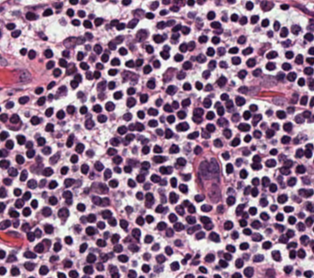nucleus: (17, 71, 30, 82), (136, 29, 147, 40), (163, 69, 173, 81), (64, 37, 76, 46), (127, 18, 137, 28), (261, 1, 272, 10), (66, 63, 75, 74), (176, 122, 188, 130), (217, 76, 226, 86), (238, 123, 249, 131), (97, 81, 106, 90), (166, 85, 175, 94), (126, 97, 135, 106), (169, 144, 178, 153), (253, 114, 261, 124), (217, 118, 227, 126), (25, 12, 36, 19), (153, 35, 164, 42), (187, 131, 198, 138), (66, 135, 73, 146), (172, 24, 181, 32), (171, 33, 179, 42), (206, 47, 214, 56), (196, 54, 205, 62), (37, 96, 45, 105), (236, 96, 244, 105), (105, 102, 114, 110), (193, 108, 202, 116), (276, 110, 285, 118), (10, 114, 18, 123), (85, 119, 93, 128), (223, 129, 231, 138), (0, 131, 8, 140), (17, 135, 25, 144), (213, 139, 222, 147), (242, 47, 252, 54), (266, 51, 276, 58), (150, 1, 158, 9), (250, 15, 258, 23), (181, 26, 189, 34), (179, 43, 187, 51), (217, 47, 225, 55), (44, 49, 52, 57), (160, 51, 168, 59), (247, 58, 255, 66), (59, 59, 67, 67), (183, 61, 191, 69), (266, 62, 274, 70), (238, 70, 246, 78), (177, 71, 185, 79), (276, 72, 284, 80), (70, 80, 78, 88), (113, 91, 121, 99), (206, 111, 214, 119), (31, 116, 39, 124), (135, 122, 143, 130), (45, 123, 53, 131), (206, 124, 214, 132), (37, 137, 45, 145), (231, 138, 239, 146), (5, 140, 13, 148), (26, 149, 34, 157), (11, 30, 20, 37), (114, 36, 123, 43), (94, 44, 101, 53), (125, 60, 134, 67), (147, 79, 154, 88), (19, 96, 28, 103), (203, 98, 210, 107), (217, 106, 224, 115), (148, 108, 157, 115), (97, 115, 106, 122), (165, 129, 172, 138), (110, 138, 119, 145), (76, 143, 83, 152), (107, 148, 116, 155), (133, 9, 143, 15), (246, 1, 253, 9), (207, 11, 214, 19), (94, 18, 102, 25), (83, 20, 91, 27), (157, 21, 165, 28), (211, 36, 219, 43), (76, 37, 84, 44), (108, 41, 115, 49), (28, 50, 35, 58), (101, 53, 108, 61), (174, 54, 182, 61), (232, 57, 240, 64), (111, 58, 119, 65), (208, 60, 215, 68), (46, 61, 54, 68), (80, 62, 88, 69), (143, 65, 150, 73), (53, 68, 60, 76), (253, 68, 260, 76), (202, 70, 209, 78), (140, 94, 147, 102), (181, 99, 189, 106), (5, 101, 13, 108), (67, 105, 74, 113), (93, 105, 101, 112), (45, 108, 52, 116), (57, 110, 64, 118), (177, 111, 185, 118), (243, 111, 250, 119), (123, 113, 131, 120), (232, 113, 239, 121), (167, 115, 174, 123), (193, 116, 201, 123), (118, 126, 126, 133), (266, 129, 273, 137), (202, 130, 209, 138), (153, 145, 161, 152), (194, 146, 201, 154), (42, 147, 50, 154), (43, 9, 52, 15), (273, 21, 279, 30), (211, 22, 220, 28), (198, 36, 207, 42), (188, 41, 194, 50), (148, 120, 157, 126), (66, 9, 73, 16), (231, 14, 238, 21), (261, 19, 268, 26), (85, 32, 92, 39), (238, 36, 245, 43), (146, 45, 153, 52), (119, 47, 126, 54), (62, 50, 69, 57), (135, 59, 142, 66), (93, 71, 100, 78), (74, 74, 81, 81), (47, 81, 54, 88), (195, 82, 202, 89), (183, 83, 190, 90), (58, 86, 65, 93), (127, 87, 134, 94), (221, 93, 228, 100), (164, 104, 171, 111), (137, 111, 144, 118), (0, 114, 7, 121), (253, 130, 260, 137), (126, 134, 133, 141), (142, 146, 149, 153), (170, 5, 178, 11), (145, 12, 153, 18), (240, 16, 246, 24), (6, 23, 14, 29), (116, 23, 124, 29), (229, 47, 237, 53), (77, 52, 83, 60), (108, 69, 116, 75), (86, 71, 92, 79), (108, 81, 114, 89), (226, 100, 232, 108), (249, 104, 257, 110), (26, 141, 32, 149), (1, 149, 7, 157), (238, 87, 247, 92), (77, 10, 84, 16), (39, 33, 46, 39), (153, 60, 159, 67), (219, 61, 226, 67), (204, 84, 211, 90), (35, 87, 42, 93), (172, 101, 178, 108), (80, 106, 86, 113), (270, 148, 277, 154), (242, 149, 249, 155), (110, 20, 118, 25), (166, 20, 174, 25), (163, 45, 169, 51), (20, 48, 26, 54), (96, 63, 102, 69), (155, 99, 161, 105), (272, 123, 278, 129), (244, 135, 250, 141), (187, 0, 194, 5), (72, 20, 79, 25), (69, 0, 77, 4), (122, 0, 130, 4), (160, 10, 166, 15), (77, 92, 83, 97), (129, 124, 134, 130), (156, 129, 162, 134), (1, 57, 5, 64), (215, 102, 220, 107), (266, 110, 271, 115), (163, 0, 169, 4), (55, 4, 61, 8), (215, 29, 221, 33), (48, 94, 52, 100), (141, 139, 147, 143), (268, 31, 272, 36), (189, 13, 193, 17), (89, 14, 93, 18), (222, 16, 226, 20), (160, 117, 163, 122), (86, 45, 89, 49)
